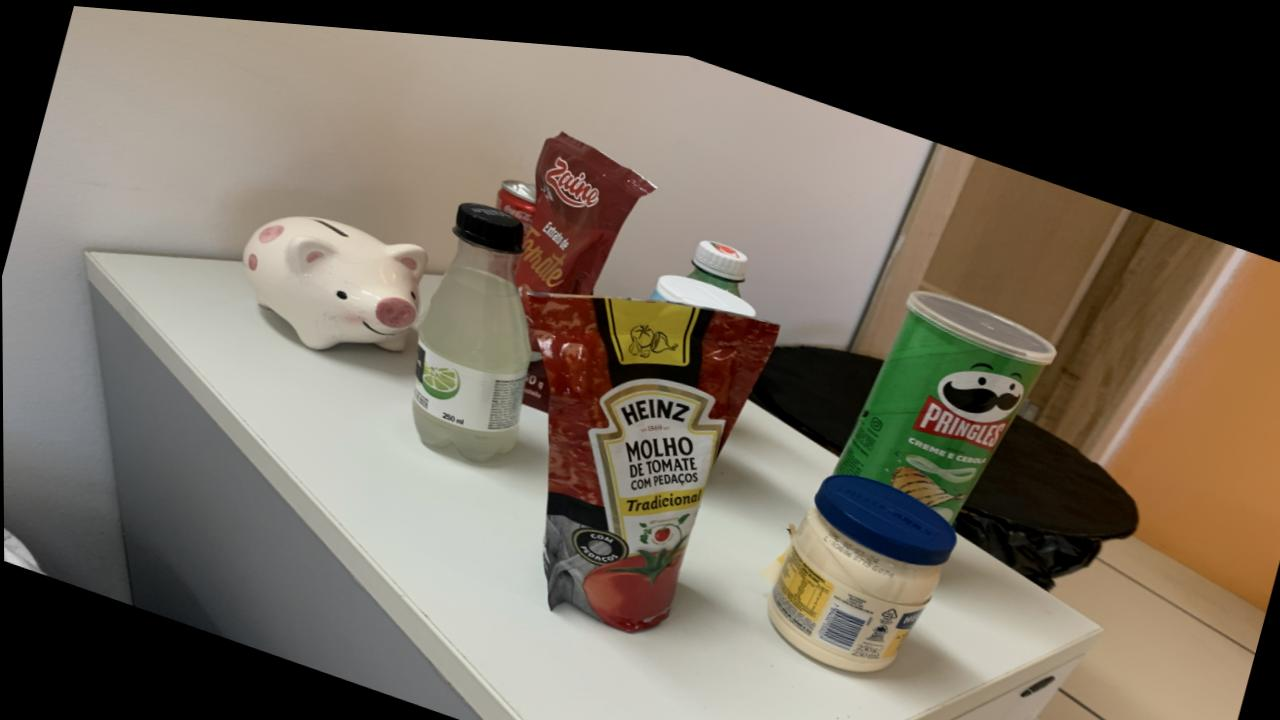Cleaner-Cleanup_Items: (651, 263, 756, 304)
Coke-Drinks: (496, 171, 537, 226)
Guarana-Drinks: (687, 228, 748, 284)
Mayonnaise-Pantry_Items: (766, 459, 957, 657)
Pig_Safe-Miscellaneous: (242, 211, 427, 345)
Pringles-Snacks: (835, 275, 1057, 506)
Soda-Drinks: (411, 195, 531, 454)
Tomato_Sauce-Pantry_Items: (526, 285, 778, 622), (515, 124, 654, 285), (522, 334, 550, 401)
